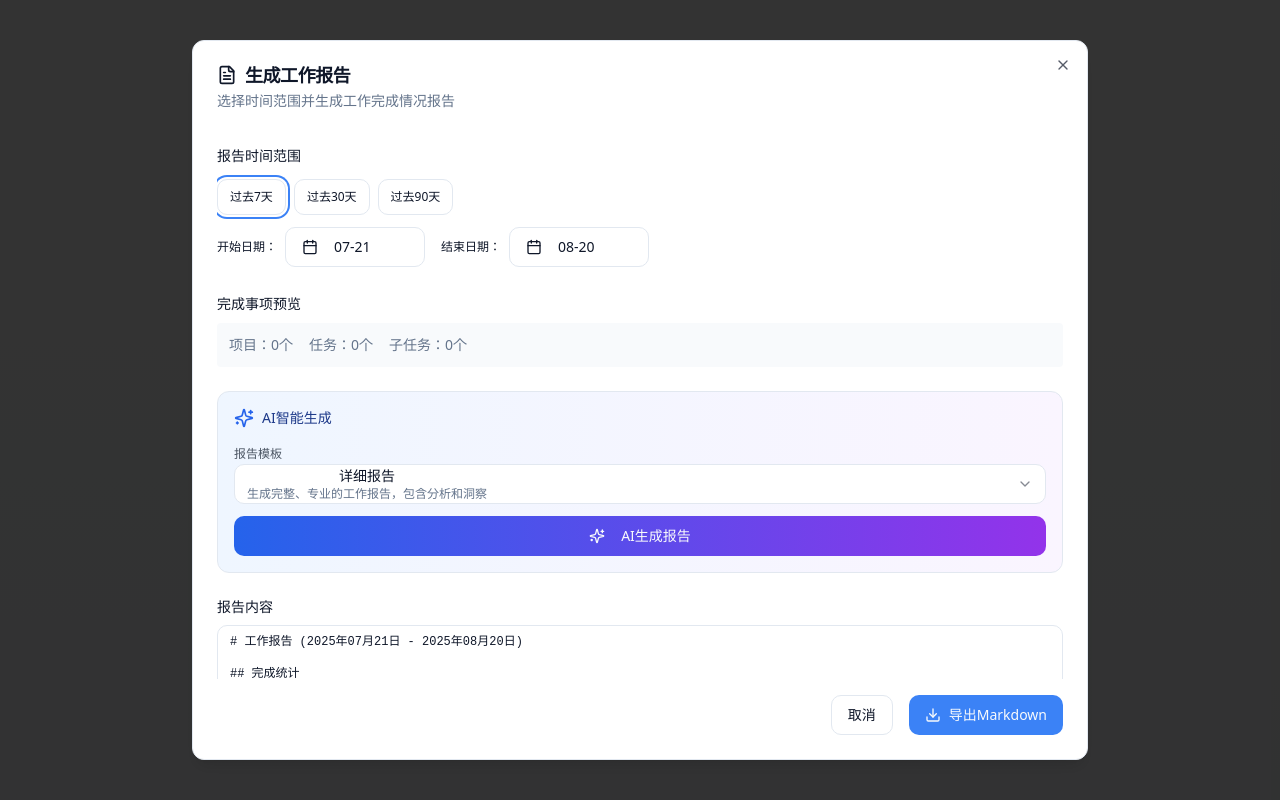
ReportModal AI功能 › AI生成流程 › 可以关闭错误提示
Click the text "AI生成报告": (656, 536) left=621, top=526, right=691, bottom=546
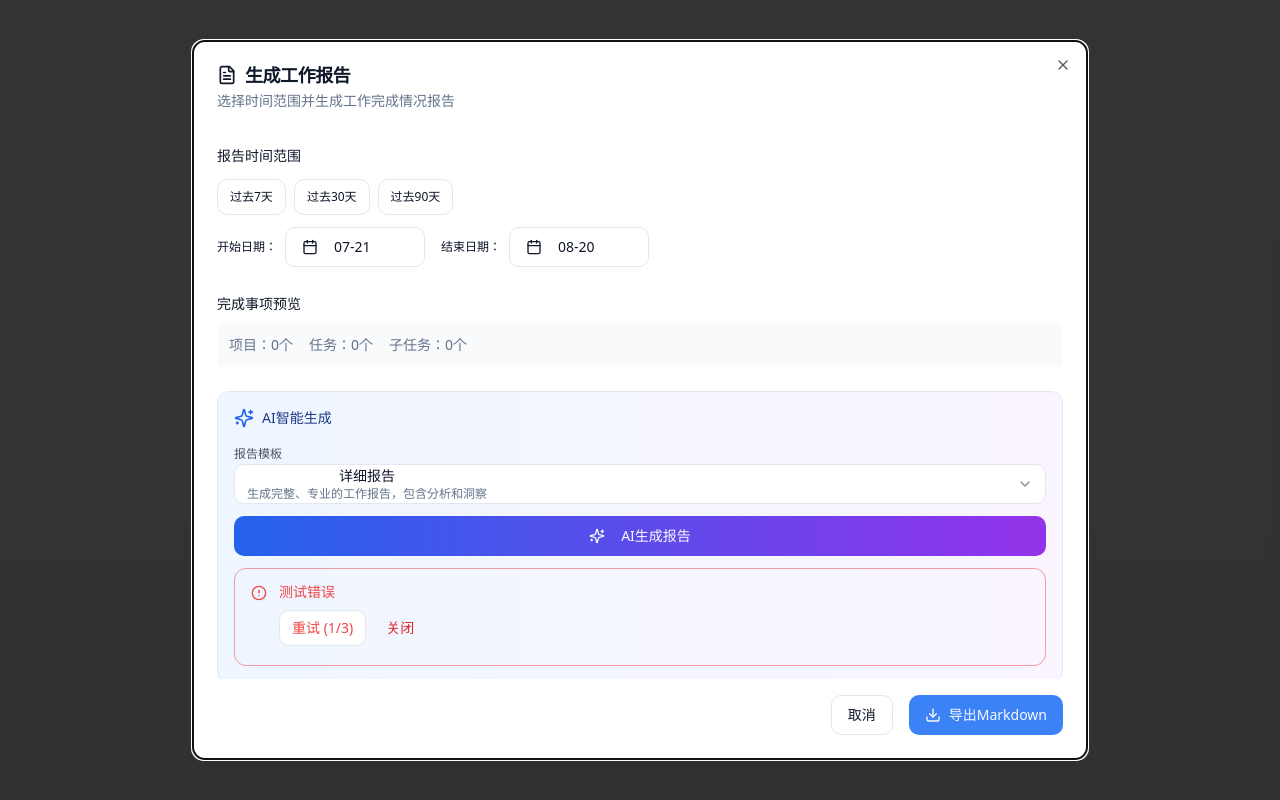
Now the text "测试错误" is shown, box left=279, top=582, right=335, bottom=601
Click the button "关闭": (400, 628) left=374, top=610, right=426, bottom=646
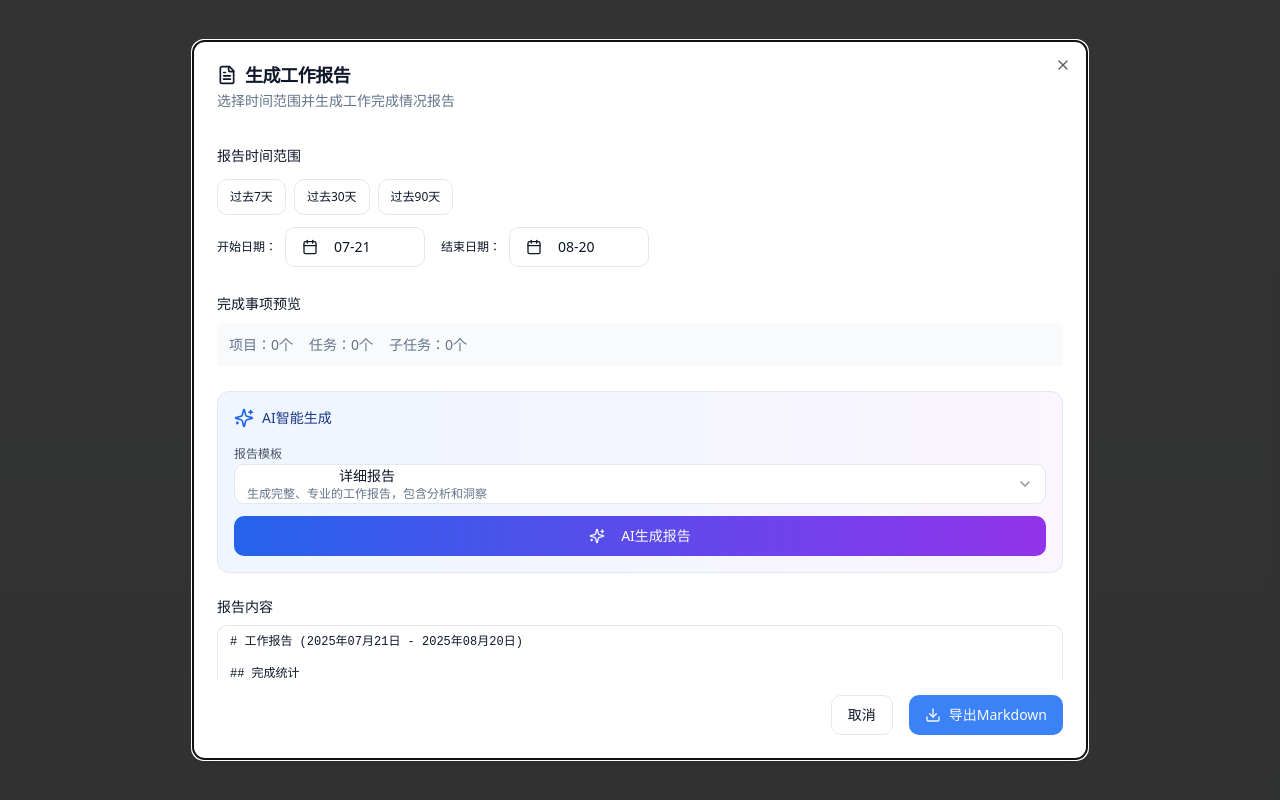
Now the text "测试错误" is gone
